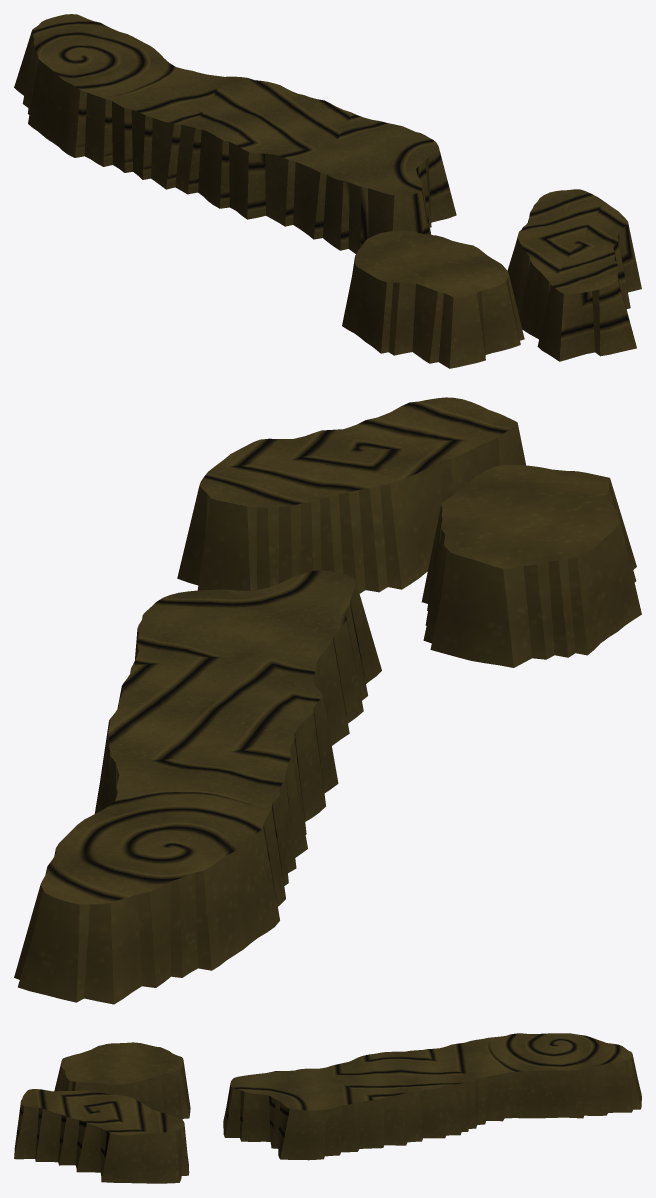
Rendered from CREHenge08.glb.
3 views of the same model, one above another, from view 1: azimuth 30°, elevation 25°; view 2: azimuth 150°, elevation 25°; view 3: azimuth 270°, elevation 25° (orthographic). The views are drawn at different scales.
Visible parts, largest first — view 1: CREHenge08_tops; view 2: CREHenge08_tops; view 3: CREHenge08_tops.
Part boxes in pixels (x1,y1,x2,y2): CREHenge08_tops: (14,14,641,368); CREHenge08_tops: (14,397,641,1004); CREHenge08_tops: (14,1033,641,1183).
Bounding box in the file's own units: 1.95 × 0.4312 × 4.88.
Materials: 2 (2 with a texture image).
